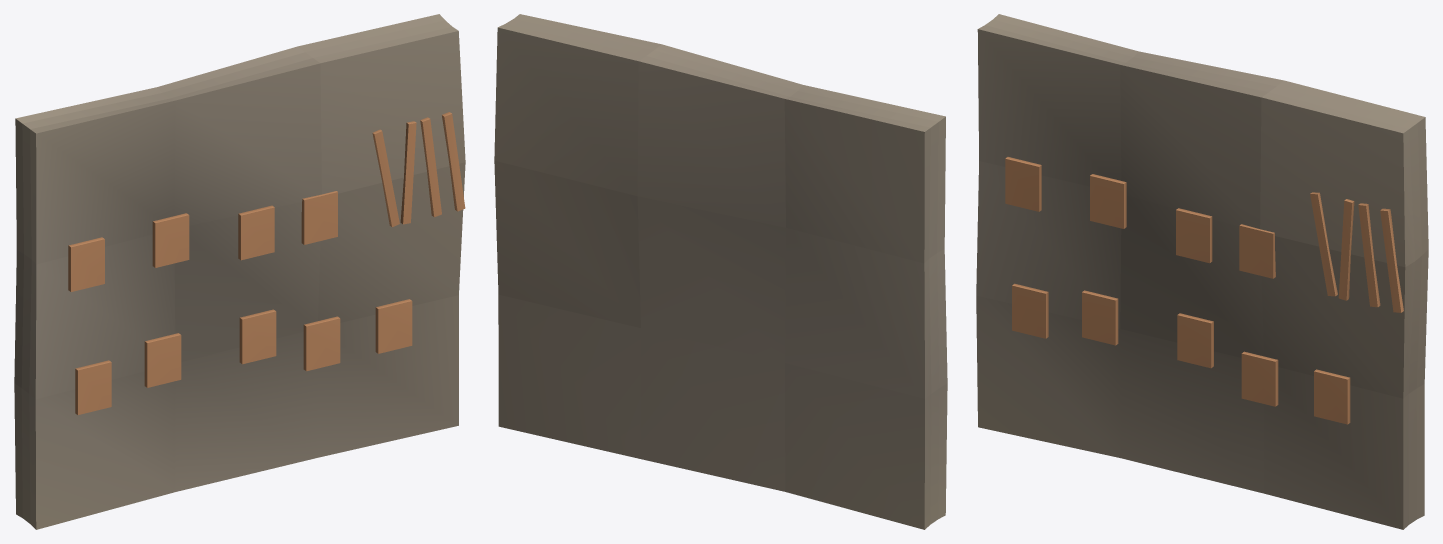
Rendered from cave_painting_panel.glb.
3 renders of one model, left to right at view 1: azimuth 30°, elevation 25°; view 2: azimuth 150°, elevation 25°; view 3: azimuth 330°, elevation 25°, orthographic.
Parts seen in each view (by area): view 1: cave_painting_panel; view 2: cave_painting_panel; view 3: cave_painting_panel.
Part boxes in pixels (left/top/right/bottom): cave_painting_panel: left=14, top=14, right=465, bottom=529; cave_painting_panel: left=494, top=14, right=947, bottom=529; cave_painting_panel: left=976, top=14, right=1428, bottom=529.
Bounding box in the file's own units: 1.91 × 1.69 × 0.2075.
